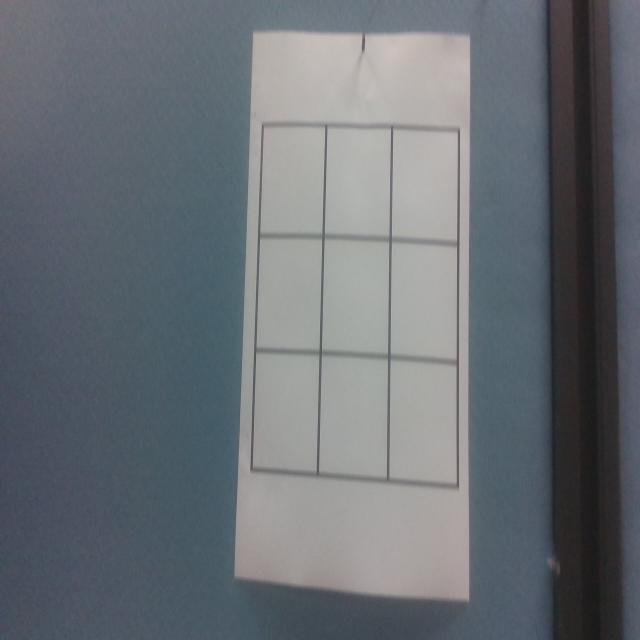null: (321, 355, 391, 480), (392, 360, 459, 487), (253, 352, 320, 475), (322, 239, 390, 355), (394, 240, 458, 361), (393, 129, 459, 242), (325, 127, 392, 238), (257, 237, 322, 349), (264, 130, 323, 230)
table: (250, 123, 461, 494)
